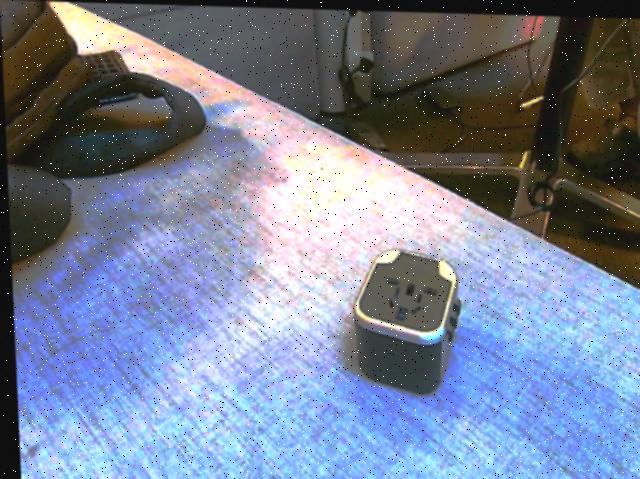adapter: (346, 244, 461, 392)
